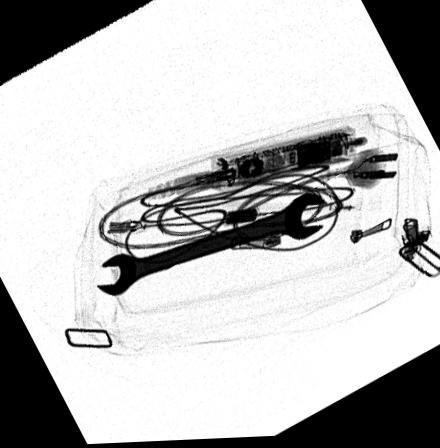Wrench: (95, 195, 325, 296)
